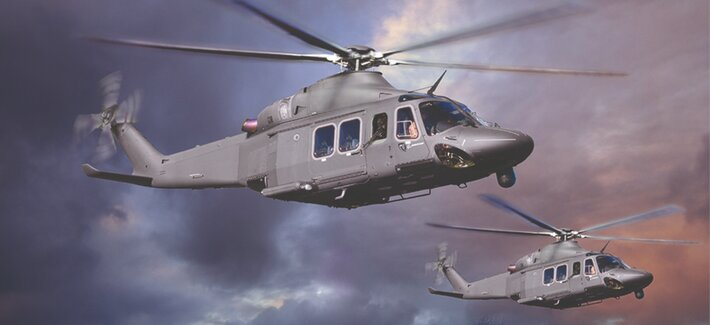MilitaryHelicopter: (77, 31, 571, 208), (424, 210, 678, 312)
